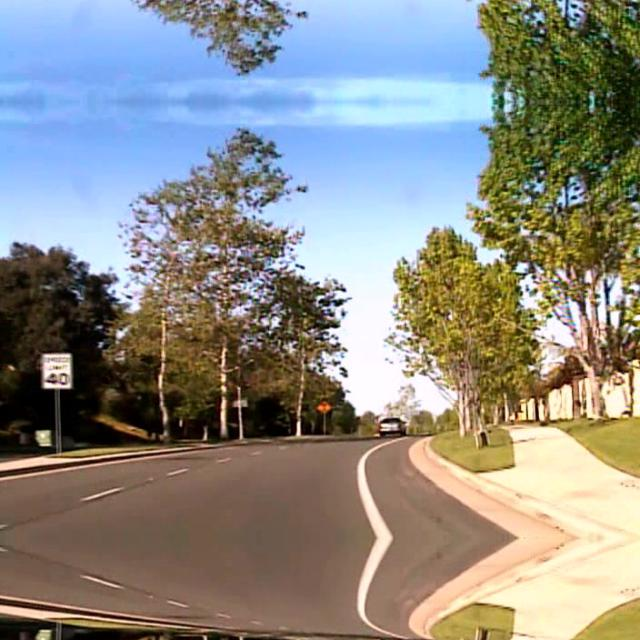signalAhead: (315, 399, 331, 413)
